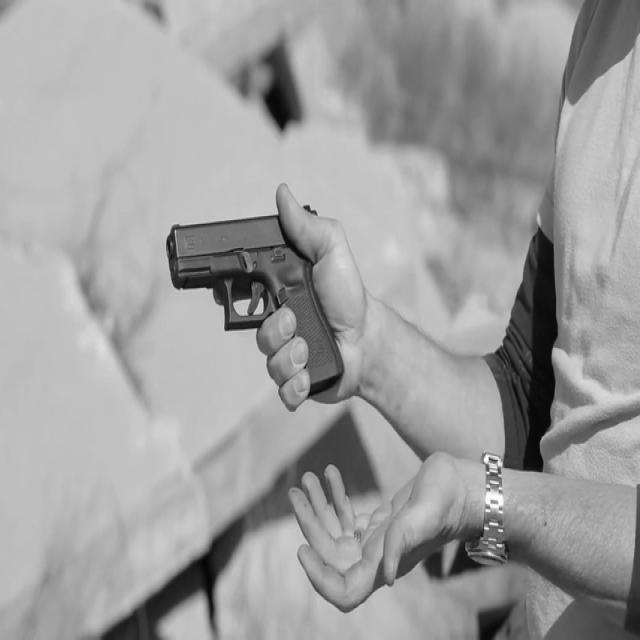Hand-Gun: (167, 112, 396, 498)
